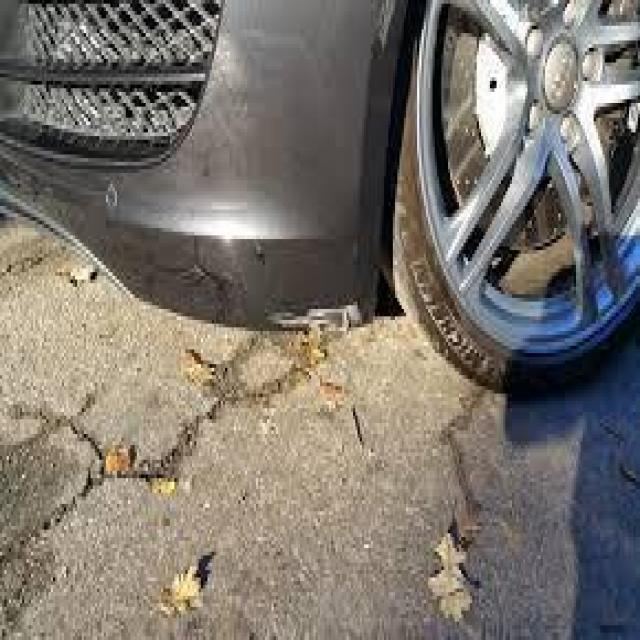damaged: (266, 302, 366, 332), (371, 0, 402, 59)
